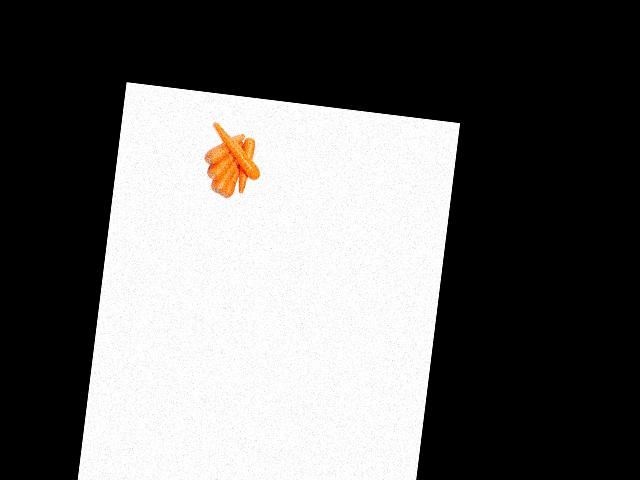carrot: (199, 123, 246, 166)
